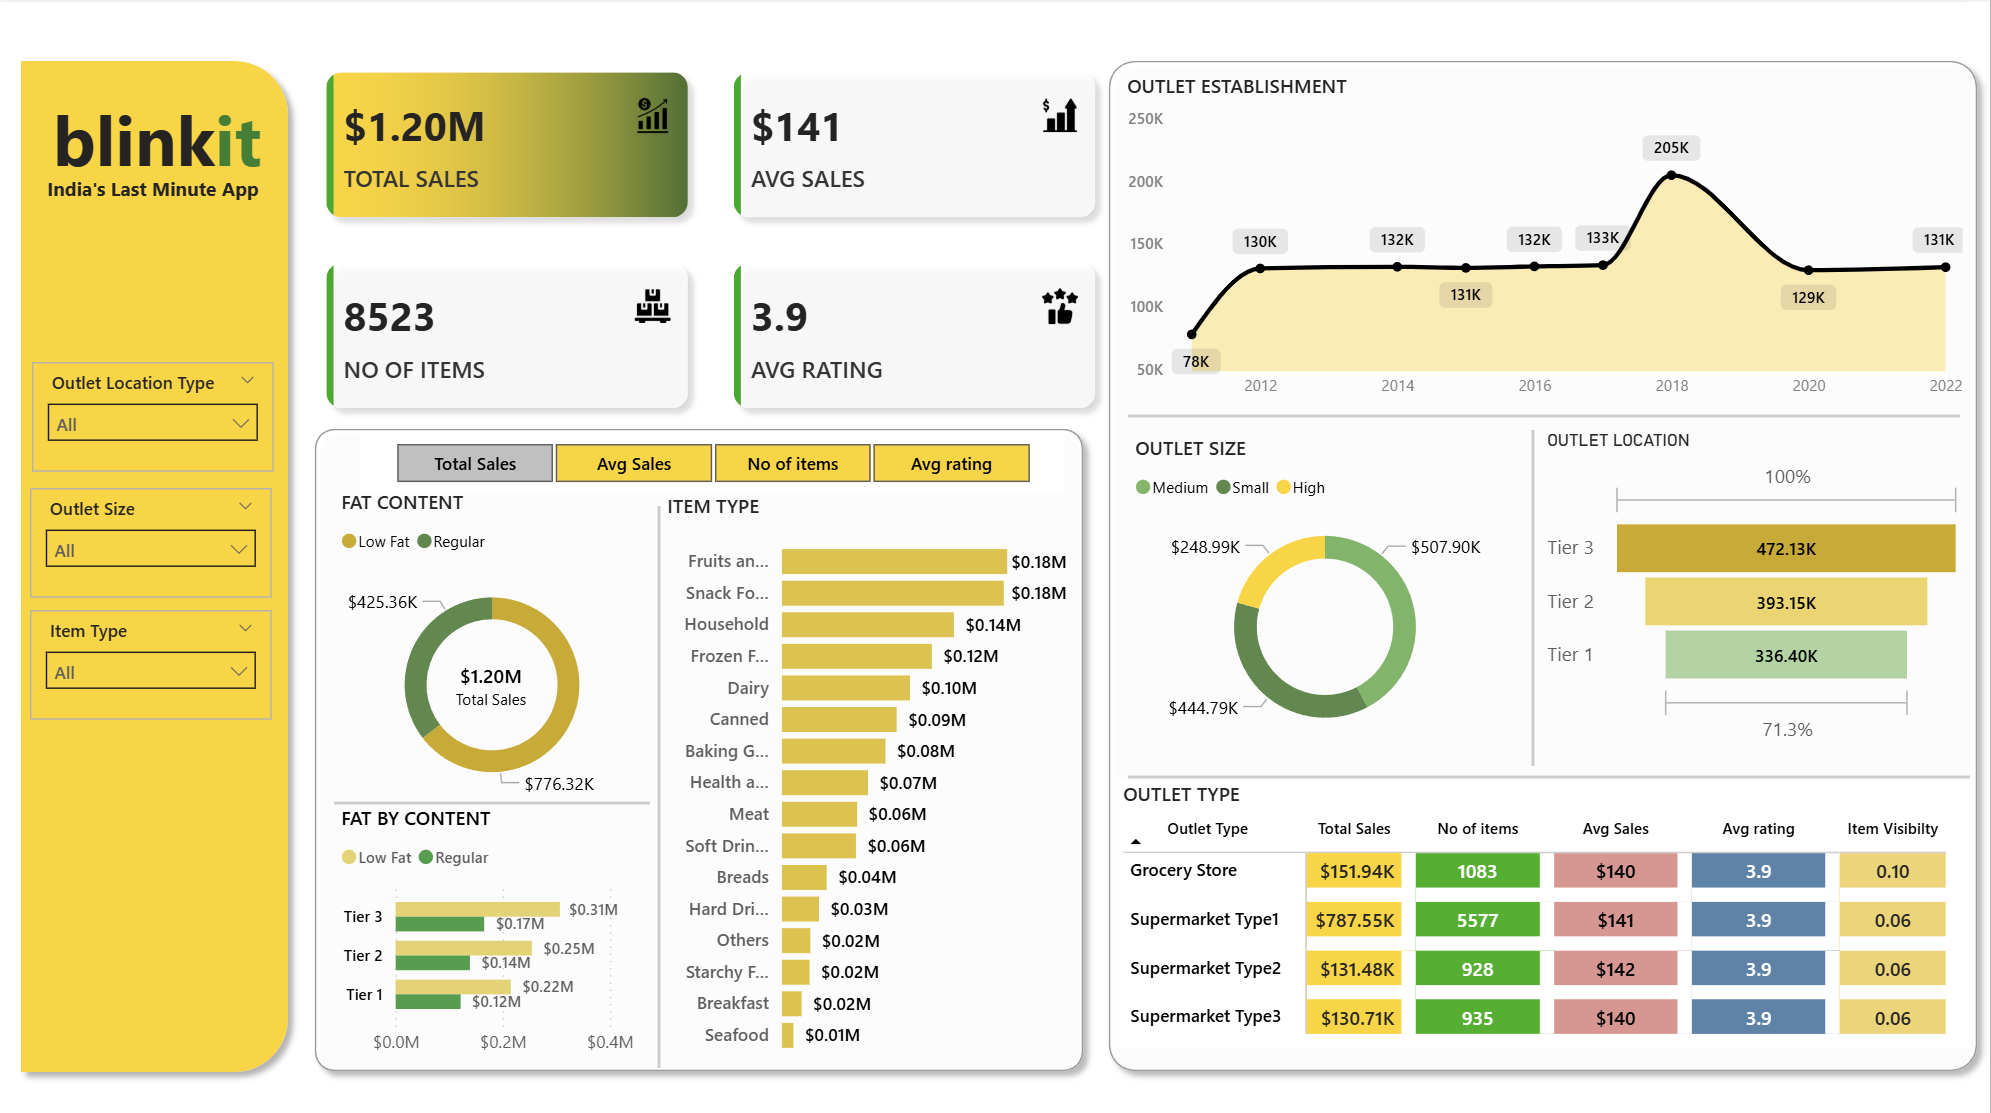

This screenshot's page, from the dashboard's own definition file:
{"tool":"powerbi","page":{"name":"Page 1","canvas":[1400,800],"ordinal":0},"visuals":[{"type":"shape","box":[18,32.1,204.2,723],"z":0},{"type":"textbox","box":[34.7,56.5,174.6,75.8],"z":1000},{"type":"textbox","box":[41.1,115.6,161.8,33.4],"z":2000},{"type":"cardVisual","fields":{"Data":["BlinkIT Grocery Data.Total Sales","BlinkIT Grocery Data.Avg Sales","BlinkIT Grocery Data.No of items","BlinkIT Grocery Data.Avg rating"]},"box":[223.1,32.1,570.3,269.1],"z":3000},{"type":"shape","box":[223.1,288.6,553.6,465.7],"z":4000},{"type":"donutChart","title":"FAT CONTENT","fields":{"Y":["BlinkIT Grocery Data.Total Sales"],"Category":["BlinkIT Grocery Data.Item Fat Content"]},"box":[245.4,338.8,220.3,230.1],"z":5000},{"type":"slicer","fields":{"Values":["Matrix.Matrix"]},"box":[263.5,301.2,490.8,40.4],"z":6000},{"type":"cardVisual","fields":{"Data":["BlinkIT Grocery Data.Total Sales"]},"box":[305.4,443.4,99,57.2],"z":7000},{"type":"clusteredBarChart","title":"FAT BY CONTENT","fields":{"Y":["BlinkIT Grocery Data.Total Sales"],"Series":["BlinkIT Grocery Data.Item Fat Content"],"Category":["BlinkIT Grocery Data.Outlet Location Type"]},"box":[245.4,559.2,220.3,184.1],"z":8000},{"type":"shape","box":[245.4,543.8,220.3,29.3],"z":9000},{"type":"shape","box":[465.7,351.4,12.5,391.8],"z":10000},{"type":"barChart","title":"ITEM TYPE","fields":{"Y":["BlinkIT Grocery Data.Total Sales"],"Category":["BlinkIT Grocery Data.Item Type"]},"box":[472.7,341.6,288.6,401.6],"z":11000},{"type":"shape","box":[776.7,32.1,623.3,722.3],"z":12000},{"type":"lineChart","title":"OUTLET ESTABLISHMENT","fields":{"Category":["BlinkIT Grocery Data.Outlet Establishment Year"],"Y":["Sum(BlinkIT Grocery Data.Sales)"]},"box":[793.4,48.8,592.6,235.7],"z":13000},{"type":"shape","box":[799,278.9,580.1,19.5],"z":14000},{"type":"donutChart","title":"OUTLET SIZE","fields":{"Y":["BlinkIT Grocery Data.Total Sales"],"Category":["BlinkIT Grocery Data.Outlet Size"]},"box":[799,301.2,274.7,224.5],"z":15000},{"type":"shape","box":[1073.7,298.4,15.3,234.3],"z":16000},{"type":"funnel","title":"OUTLET LOCATION","fields":{"Category":["BlinkIT Grocery Data.Outlet Location Type"],"Y":["Sum(BlinkIT Grocery Data.Sales)"]},"box":[1086.3,298.4,299.8,224],"z":17000},{"type":"pivotTable","title":"OUTLET TYPE","fields":{"Rows":["BlinkIT Grocery Data.Outlet Type"],"Values":["BlinkIT Grocery Data.Total Sales","BlinkIT Grocery Data.No of items","BlinkIT Grocery Data.Avg Sales","BlinkIT Grocery Data.Avg rating","Avg(BlinkIT Grocery Data.Item Visibility)"]},"box":[790.6,542.4,595.4,186.9],"z":18000},{"type":"shape","box":[799,532.7,587.1,15.3],"z":19000},{"type":"slicer","fields":{"Values":["BlinkIT Grocery Data.Outlet Location Type"]},"box":[34.9,251,168.7,76.7],"z":20000},{"type":"slicer","fields":{"Values":["BlinkIT Grocery Data.Outlet Size"]},"box":[33.5,338.8,168.7,76.7],"z":21000},{"type":"slicer","fields":{"Values":["BlinkIT Grocery Data.Item Type"]},"box":[33.5,423.9,168.7,76.7],"z":22000}]}

Visuals, with their boxes in screenshot pixels (x1, y1, x2, y2), scaled from the page's 1400x800 canvas onto the 1991x1113 screenshot:
shape: x1=26, y1=45, x2=316, y2=1051
textbox: x1=49, y1=79, x2=298, y2=184
textbox: x1=58, y1=161, x2=289, y2=207
cardVisual - BlinkIT Grocery Data.Total Sales x BlinkIT Grocery Data.Avg Sales: x1=317, y1=45, x2=1128, y2=419
shape: x1=317, y1=402, x2=1105, y2=1049
"FAT CONTENT" donutChart: x1=349, y1=471, x2=662, y2=791
slicer - Matrix.Matrix: x1=375, y1=419, x2=1073, y2=475
cardVisual - BlinkIT Grocery Data.Total Sales: x1=434, y1=617, x2=575, y2=696
"FAT BY CONTENT" clusteredBarChart: x1=349, y1=778, x2=662, y2=1034
shape: x1=349, y1=757, x2=662, y2=797
shape: x1=662, y1=489, x2=680, y2=1034
"ITEM TYPE" barChart: x1=672, y1=475, x2=1083, y2=1034
shape: x1=1105, y1=45, x2=1990, y2=1050
"OUTLET ESTABLISHMENT" lineChart: x1=1128, y1=68, x2=1971, y2=396
shape: x1=1136, y1=388, x2=1961, y2=415
"OUTLET SIZE" donutChart: x1=1136, y1=419, x2=1527, y2=731
shape: x1=1527, y1=415, x2=1549, y2=741
"OUTLET LOCATION" funnel: x1=1545, y1=415, x2=1971, y2=727
"OUTLET TYPE" pivotTable: x1=1124, y1=755, x2=1971, y2=1015
shape: x1=1136, y1=741, x2=1971, y2=762
slicer - BlinkIT Grocery Data.Outlet Location Type: x1=50, y1=349, x2=290, y2=456
slicer - BlinkIT Grocery Data.Outlet Size: x1=48, y1=471, x2=288, y2=578
slicer - BlinkIT Grocery Data.Item Type: x1=48, y1=590, x2=288, y2=696
